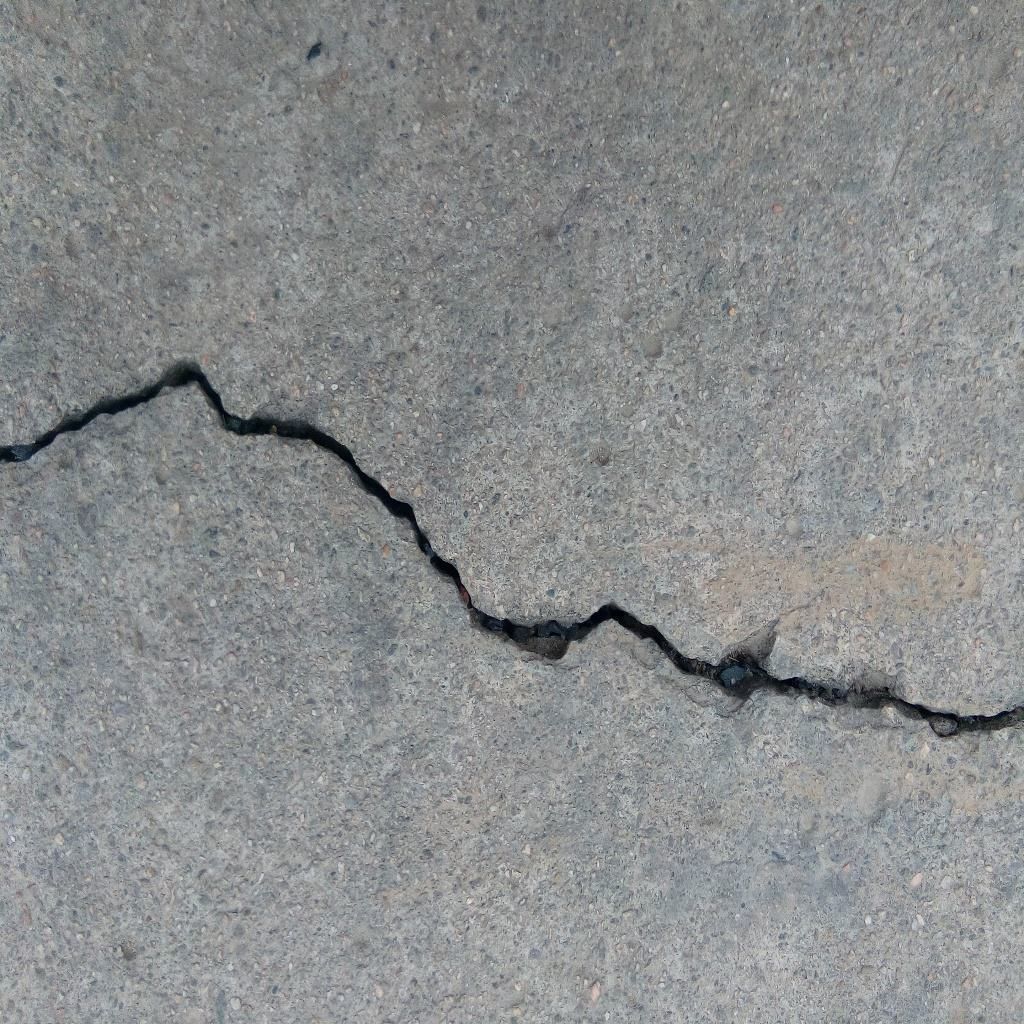Crack: (1, 355, 1024, 741)
